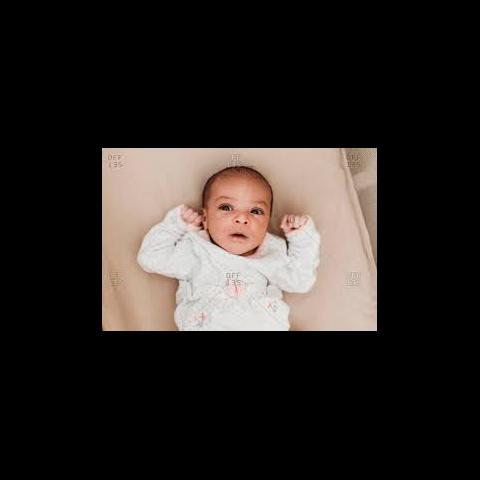opened: (206, 198, 278, 222)
